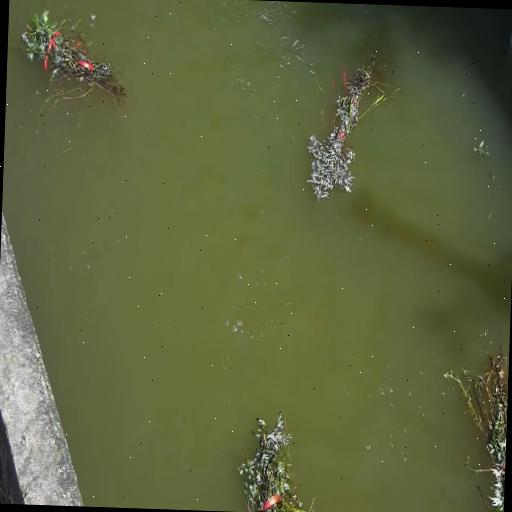twig: (305, 44, 400, 202), (439, 326, 509, 512), (16, 8, 130, 116), (235, 406, 320, 512)
